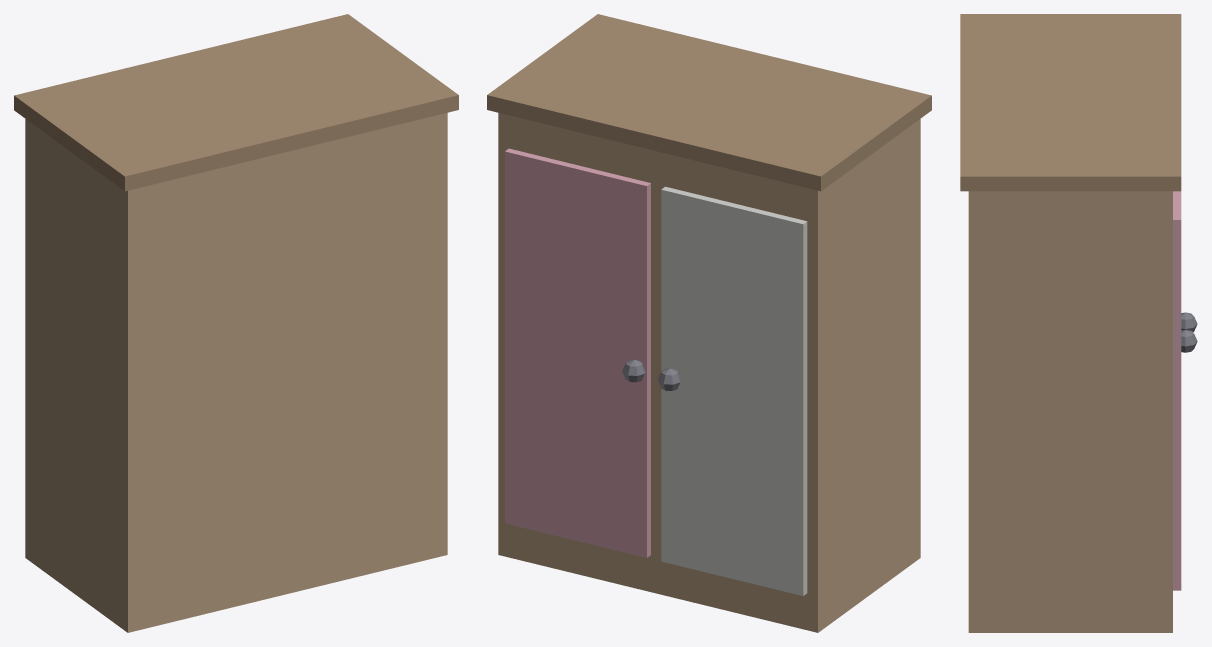
The model's file is kid_guarda_inf.glb.
The picture shows the model from 3 angles, left to right: view 1: azimuth 30°, elevation 25°; view 2: azimuth 150°, elevation 25°; view 3: azimuth 270°, elevation 25°; orthographic projection.
Visible parts, largest first — view 1: KID_GUARDA_INF_v01; view 2: KID_GUARDA_INF_v01; view 3: KID_GUARDA_INF_v01.
Part boxes in pixels (left/top/right/bottom): KID_GUARDA_INF_v01: left=14, top=14, right=458, bottom=632; KID_GUARDA_INF_v01: left=487, top=14, right=931, bottom=632; KID_GUARDA_INF_v01: left=960, top=14, right=1197, bottom=632.
Size of the model in its own units: 0.94 by 1.24 by 0.58.
